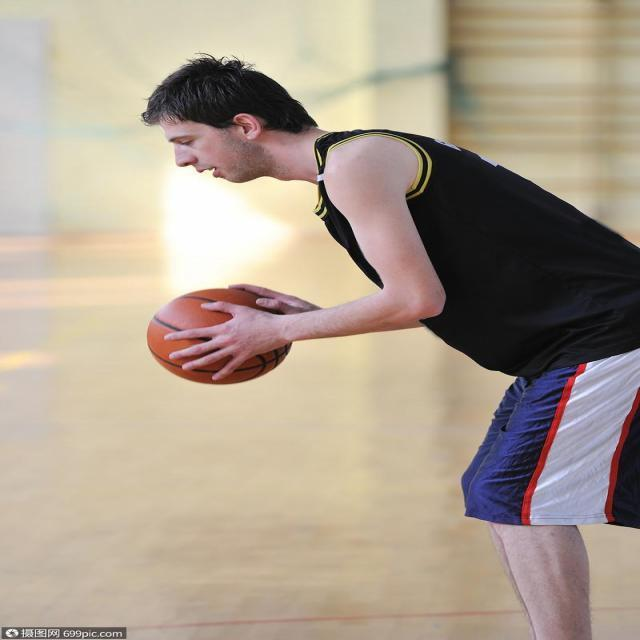rim: (152, 286, 286, 386)
